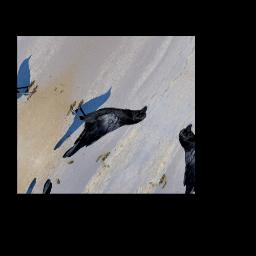Crow: (41, 82, 152, 176)
